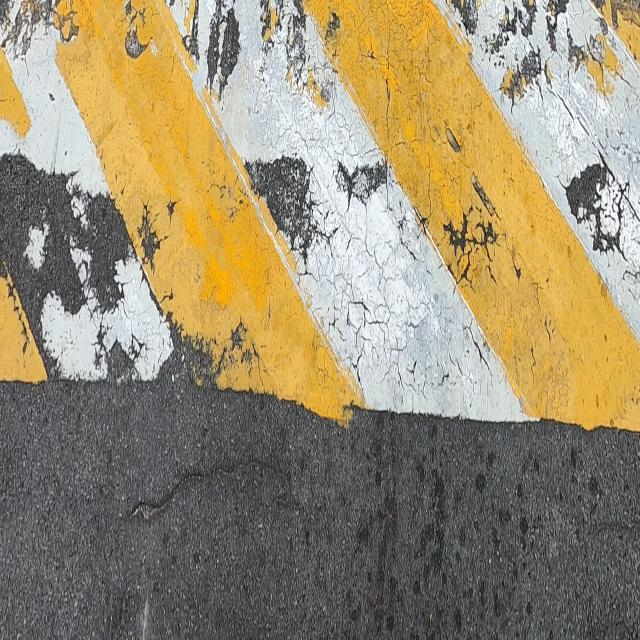Retak-Melintang: (127, 454, 296, 528)
